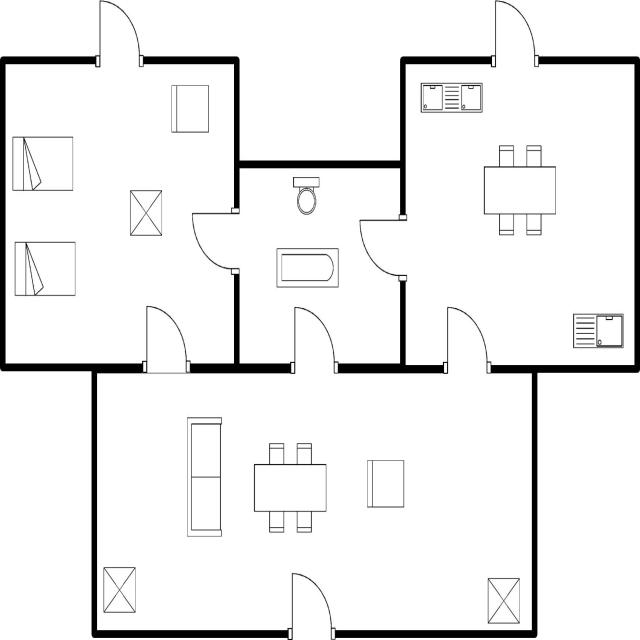bed: (9, 132, 77, 196), (11, 237, 78, 300)
coffee_table: (100, 560, 140, 618), (124, 185, 166, 239), (484, 572, 524, 628)
dining_table: (248, 438, 330, 536), (479, 140, 559, 240)
large_sink: (288, 172, 324, 218)
large_sofa: (182, 412, 226, 542)
sink: (568, 308, 626, 354)
small_sofa: (167, 79, 213, 139), (363, 454, 407, 510)
tub: (272, 244, 342, 294)
twin_sink: (416, 78, 486, 118)
